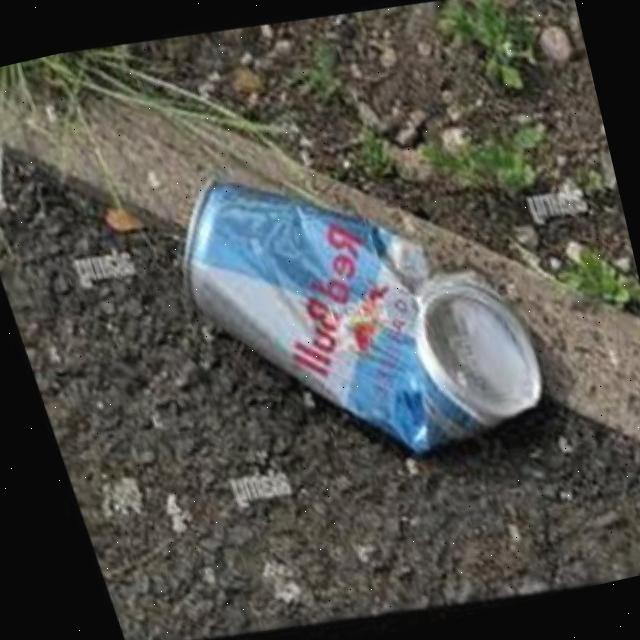trash: (148, 113, 554, 510)
